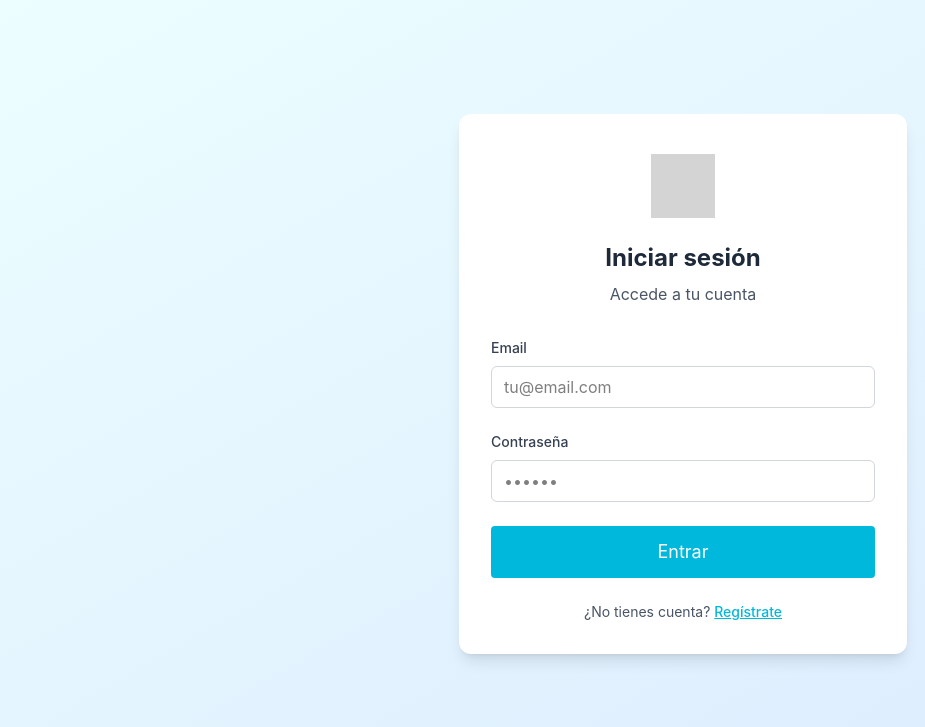
Scenario: Login page › valida: longitud mínima de password
In the field labelled "Email": (683, 387) [491,366,875,408], type "user@mail.com"
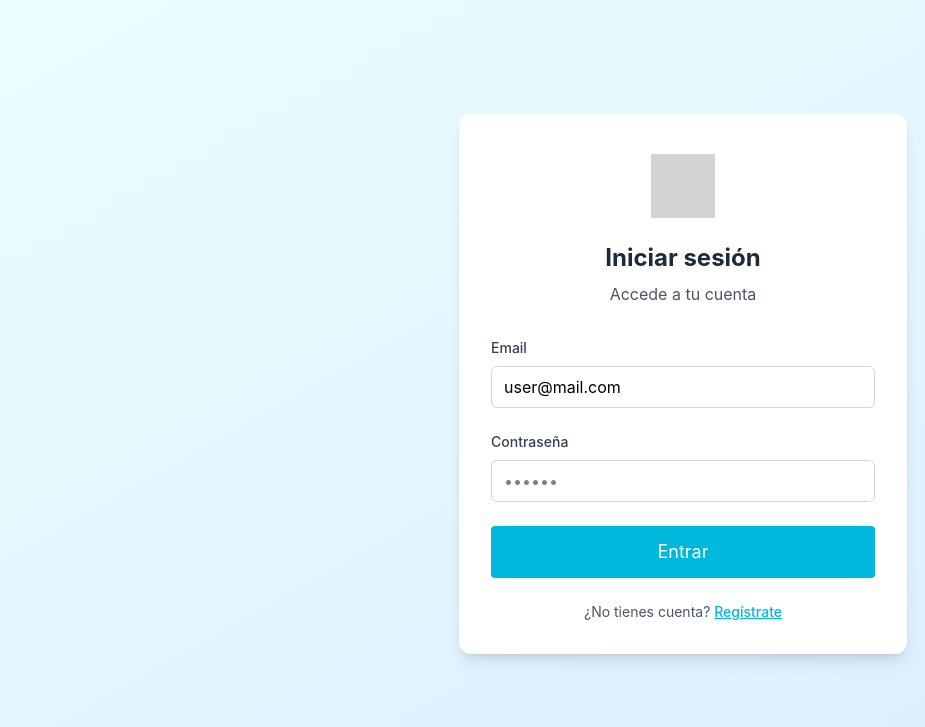
In the password field labelled "Contraseña": (683, 481) [491,460,875,502], type "123"
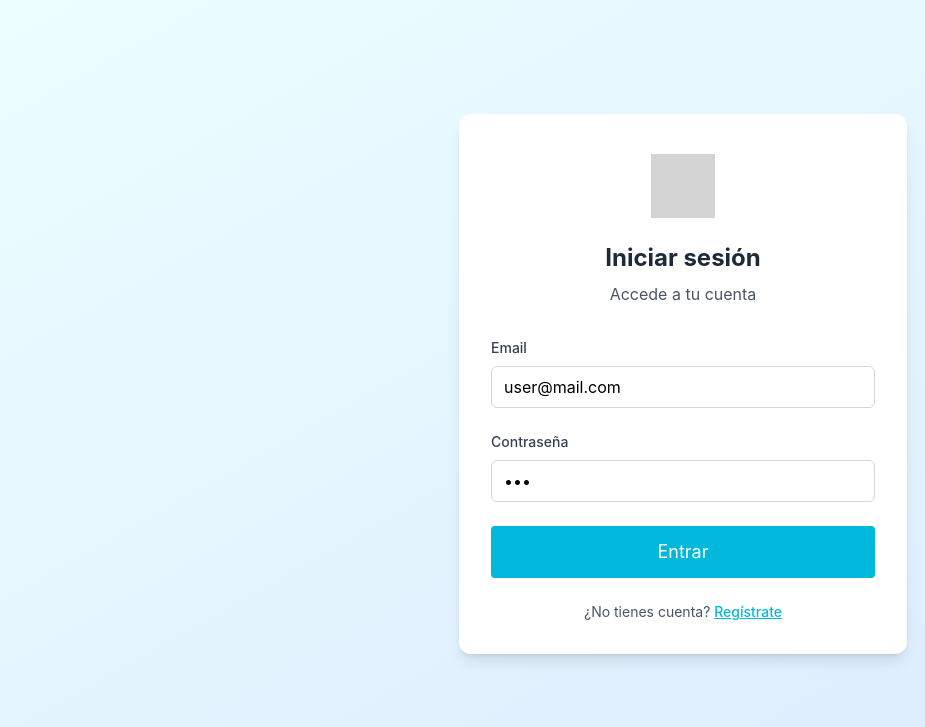
Click the button "Entrar": (683, 552) [491,526,875,578]
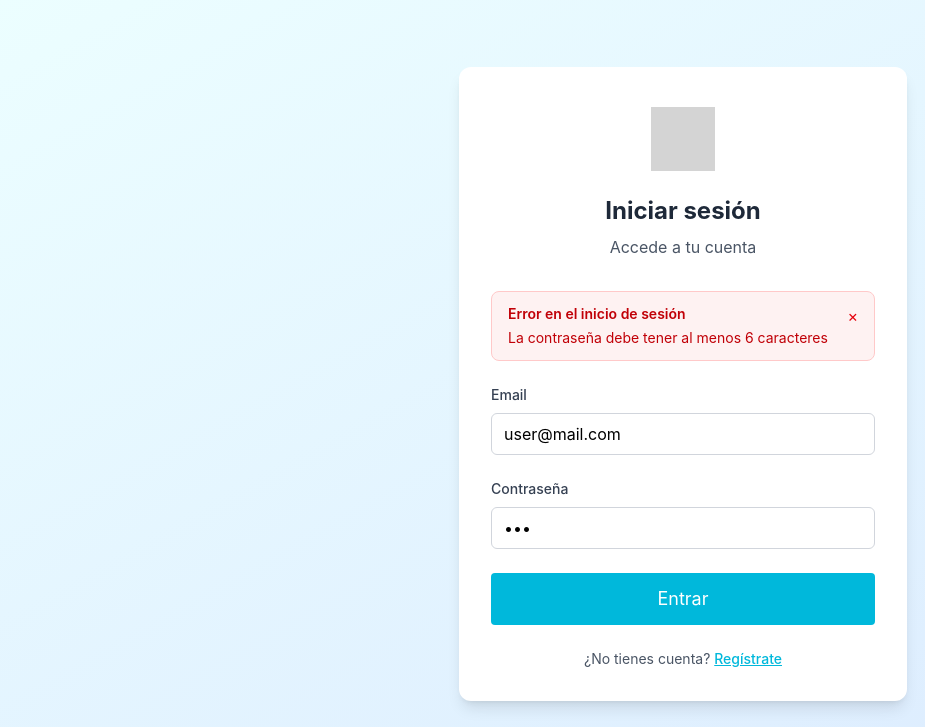
expect the text "La contraseña debe tener al menos 6 caracteres" is shown: met, box [508,328,828,348]
